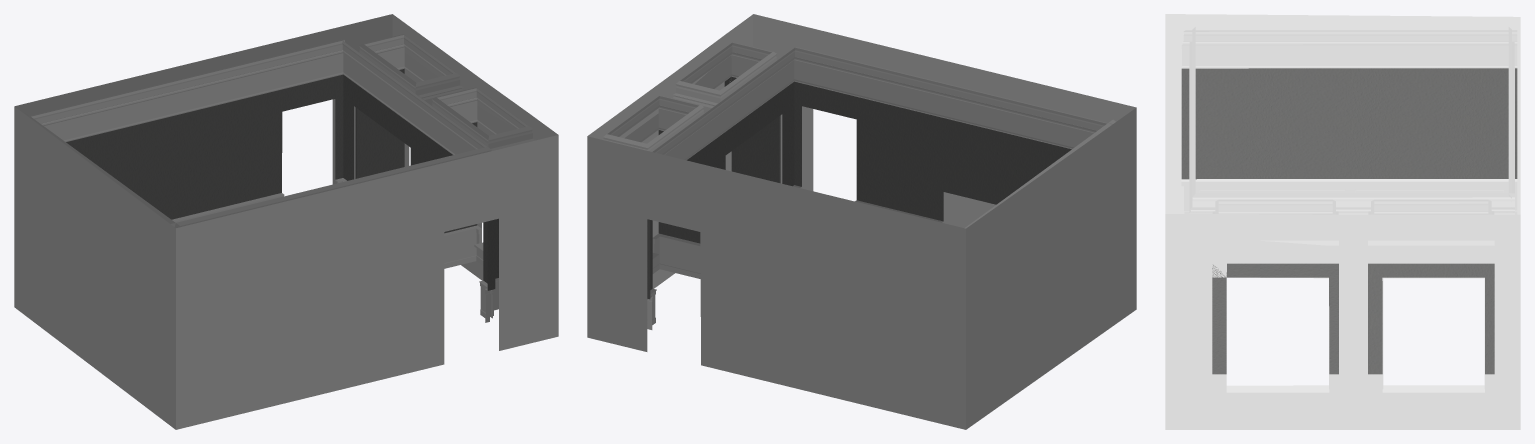
File: Wall_47ef4cb1.obj
The picture shows the model from 3 angles, left to right: view 1: azimuth 30°, elevation 25°; view 2: azimuth 150°, elevation 25°; view 3: azimuth 270°, elevation 25°; orthographic projection. The views are drawn at different scales.
Visible parts, largest first — view 1: Wall_47ef4cb1; view 2: Wall_47ef4cb1; view 3: Wall_47ef4cb1.
Part boxes in pixels (x1,y1,x2,y2): Wall_47ef4cb1: [14, 14, 558, 429]; Wall_47ef4cb1: [587, 14, 1136, 429]; Wall_47ef4cb1: [1165, 14, 1520, 429].
Bounding box in the file's own units: 7.98 × 3.96 × 5.9.
